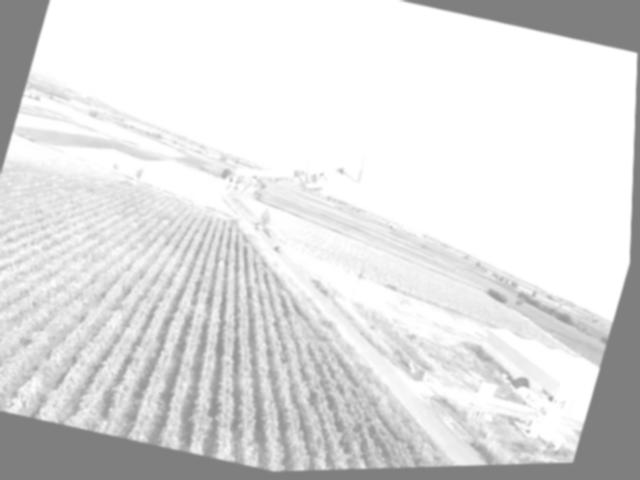hedef: (229, 121, 408, 224)
